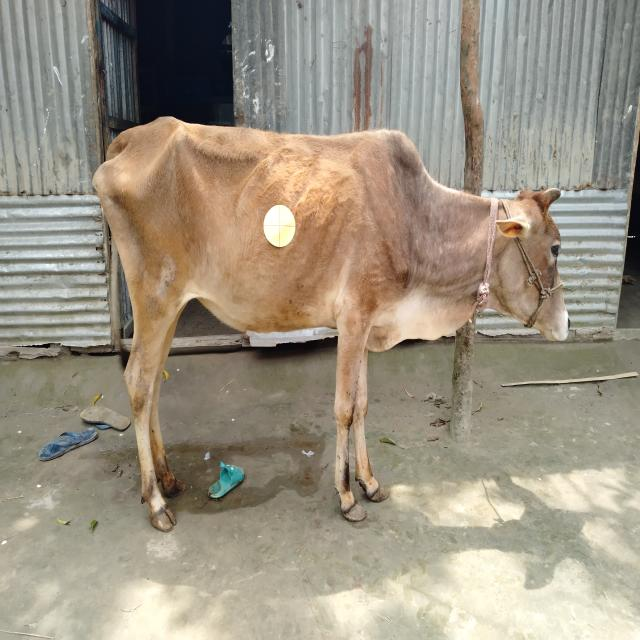badan_sapi: (94, 130, 414, 336)
sapi: (88, 107, 584, 546)
